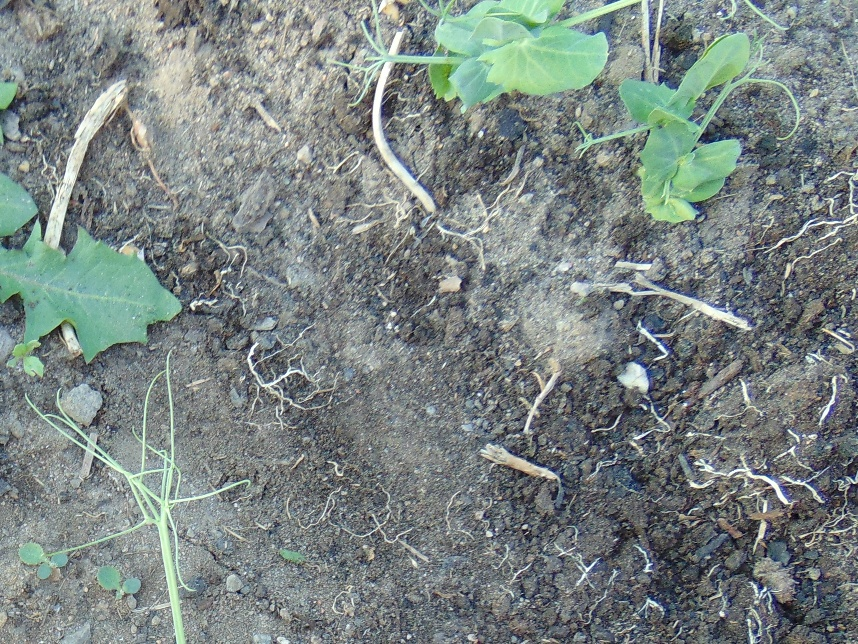crop: (566, 21, 795, 230), (342, 1, 643, 106), (68, 438, 216, 644)
weed: (1, 161, 183, 358), (16, 542, 69, 579), (95, 563, 142, 599)
